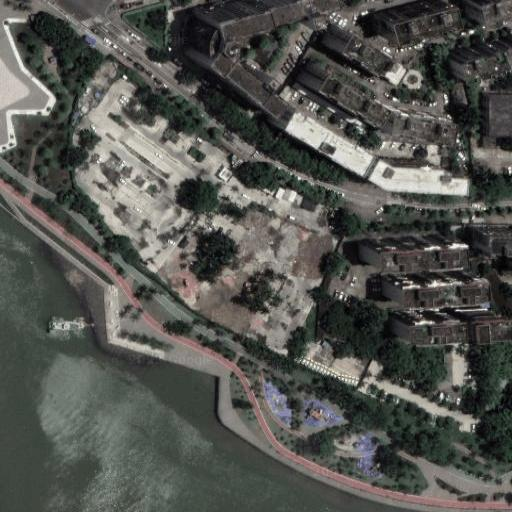building: (264, 101, 355, 166), (0, 31, 46, 142), (303, 59, 377, 112), (327, 18, 393, 71), (368, 160, 454, 196), (447, 28, 512, 69), (364, 229, 454, 257), (385, 266, 477, 293), (389, 108, 455, 144), (378, 0, 449, 29), (394, 306, 453, 330), (485, 96, 512, 138), (458, 304, 499, 327), (259, 0, 313, 17), (256, 34, 285, 64), (474, 221, 512, 243), (271, 179, 300, 204), (452, 178, 472, 197), (452, 82, 468, 105), (496, 375, 511, 389), (479, 138, 494, 151), (82, 35, 95, 46), (49, 58, 55, 63)
